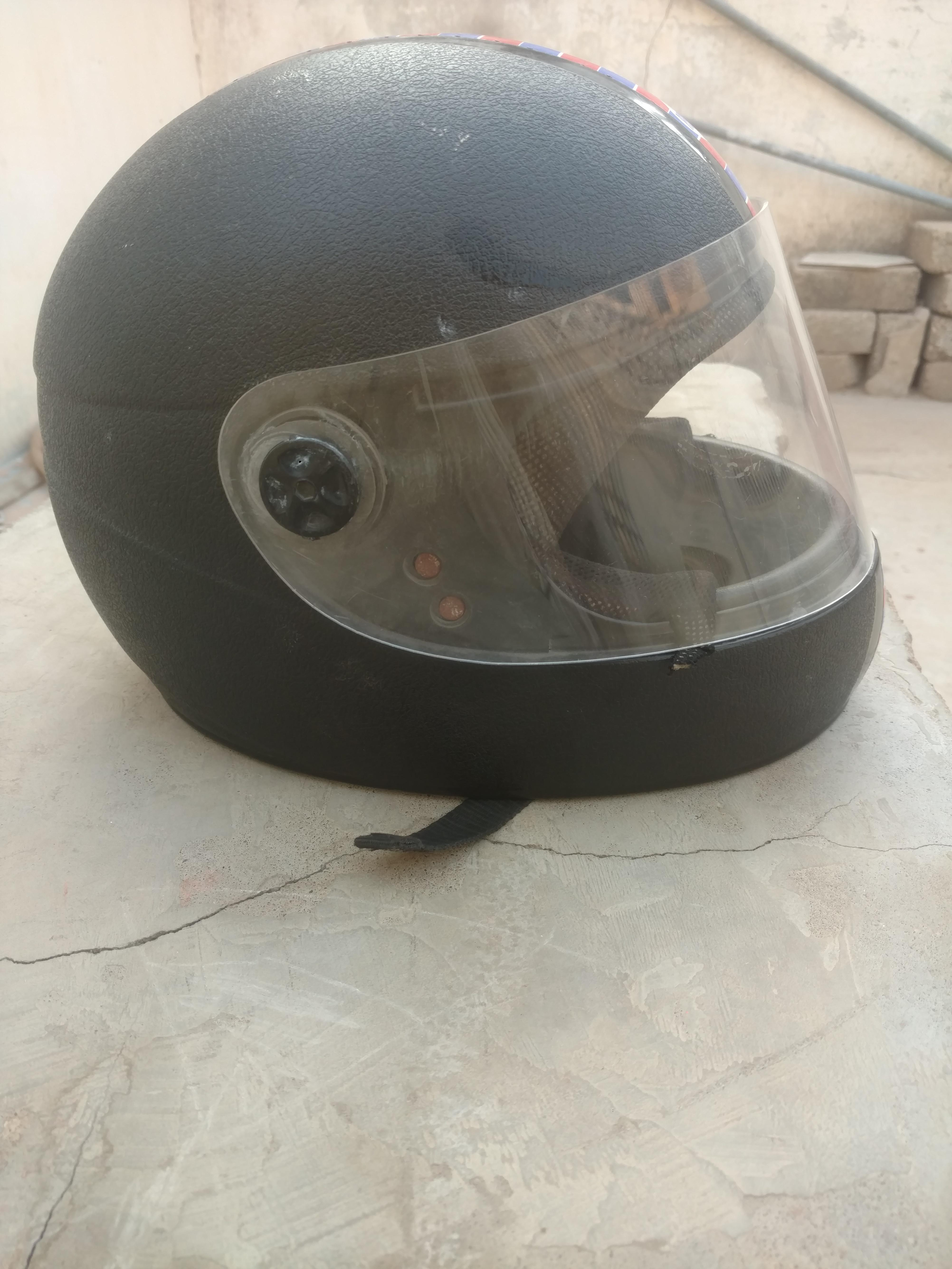helmet: (29, 28, 903, 826)
